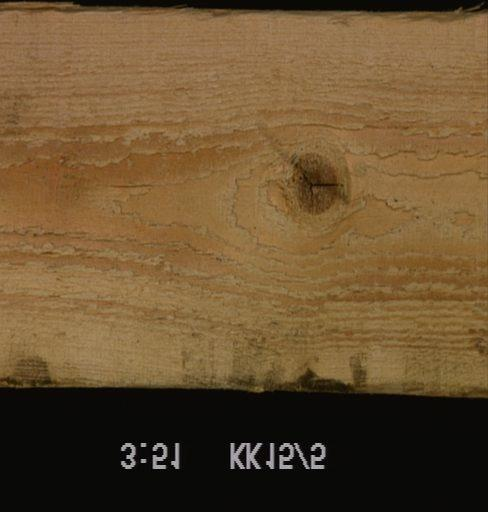sound_knot: (287, 150, 339, 218)
split: (104, 177, 161, 195)
wave: (278, 10, 486, 35), (0, 1, 258, 21)
